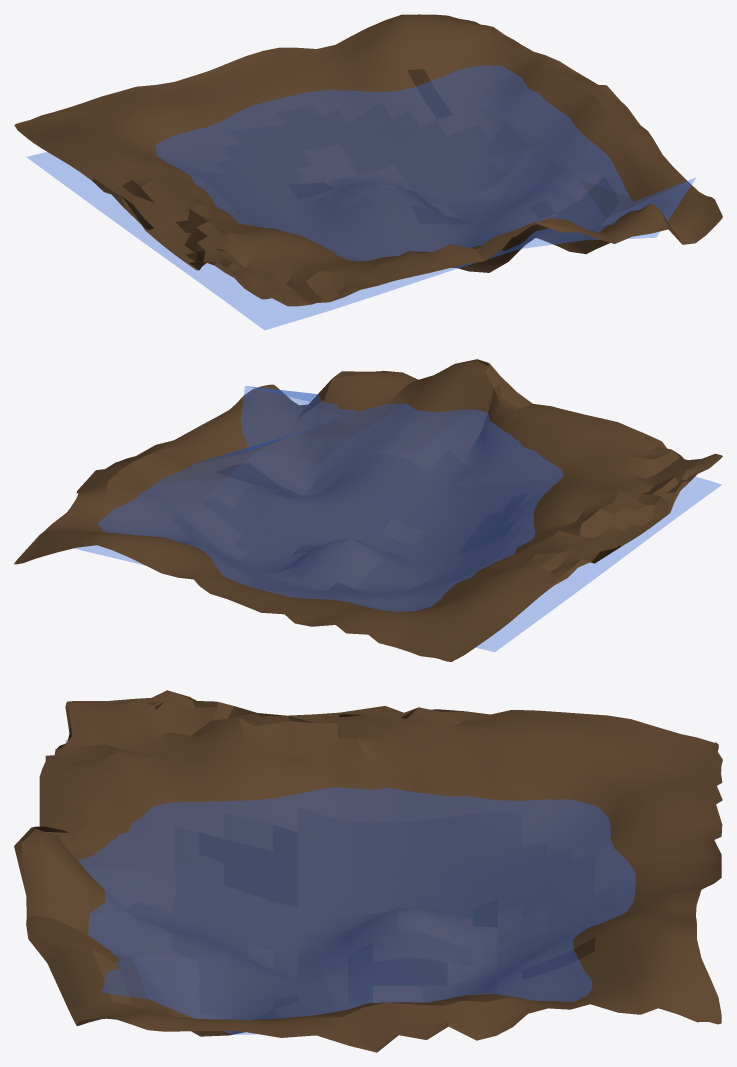
The model's file is lago_p.fbx.
3 renders of one model, top to bottom at view 1: azimuth 30°, elevation 25°; view 2: azimuth 150°, elevation 25°; view 3: azimuth 270°, elevation 25°, orthographic. The views are drawn at different scales.
Visible parts, largest first — view 1: Plano, Plano.001; view 2: Plano, Plano.001; view 3: Plano, Plano.001.
Boxes of the visible parts, x1,y1,x2,y2 form: Plano: [14, 14, 722, 306]; Plano.001: [27, 65, 695, 329]; Plano: [14, 359, 722, 661]; Plano.001: [74, 386, 721, 651]; Plano: [14, 690, 722, 1052]; Plano.001: [66, 740, 635, 1034].
Bounding box in the file's own units: 1803 × 399 × 1774.
